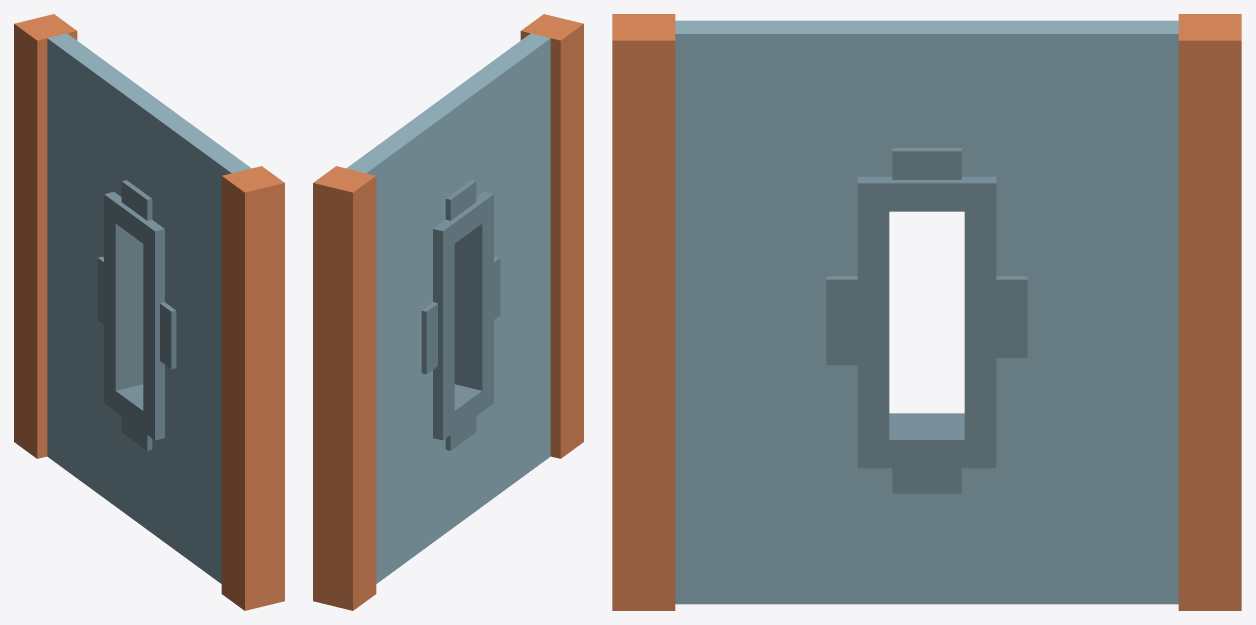
The model's file is wallWindowStone.fbx.
3 renders of one model, left to right at view 1: azimuth 30°, elevation 25°; view 2: azimuth 150°, elevation 25°; view 3: azimuth 270°, elevation 25°, orthographic. The views are drawn at different scales.
Visible parts, largest first — view 1: wallWindowStone; view 2: wallWindowStone; view 3: wallWindowStone.
Boxes of the visible parts, x1,y1,x2,y2 form: wallWindowStone: (14,14,284,610); wallWindowStone: (313,14,583,610); wallWindowStone: (612,14,1241,610).
Size of the model in its own units: 1 by 10 by 10.
